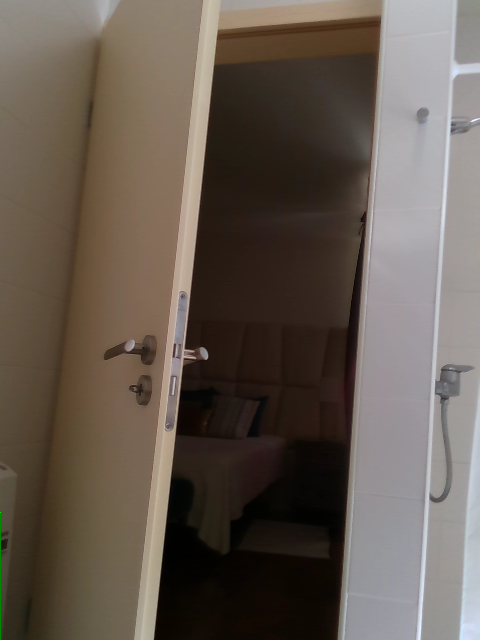semi: (17, 1, 391, 639)
